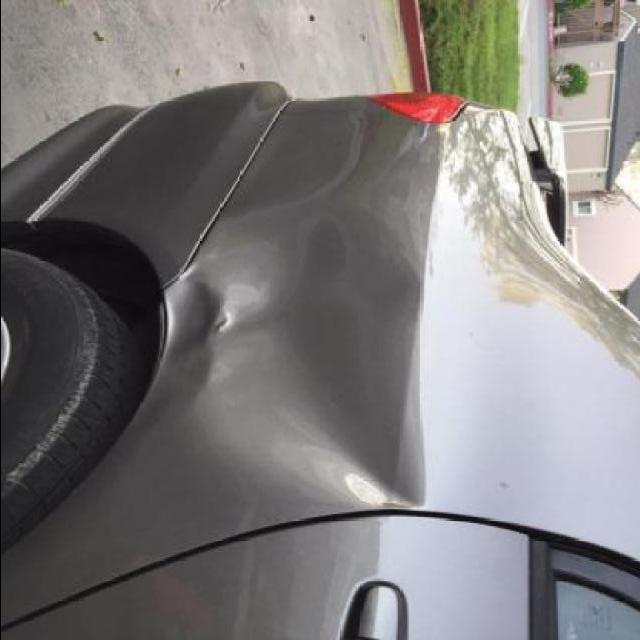quaterpanel-dent: (47, 255, 503, 523)
